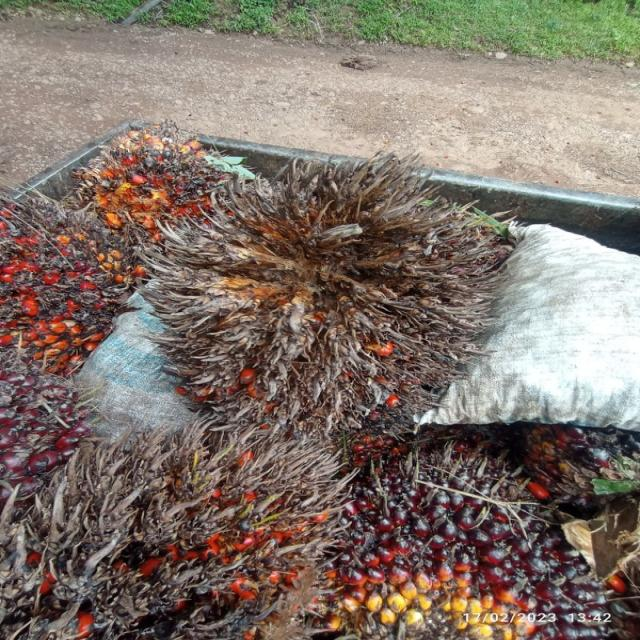fraksi 00: (304, 424, 613, 640)
fraksi 4: (0, 424, 406, 640), (56, 110, 291, 286), (0, 160, 171, 387)
